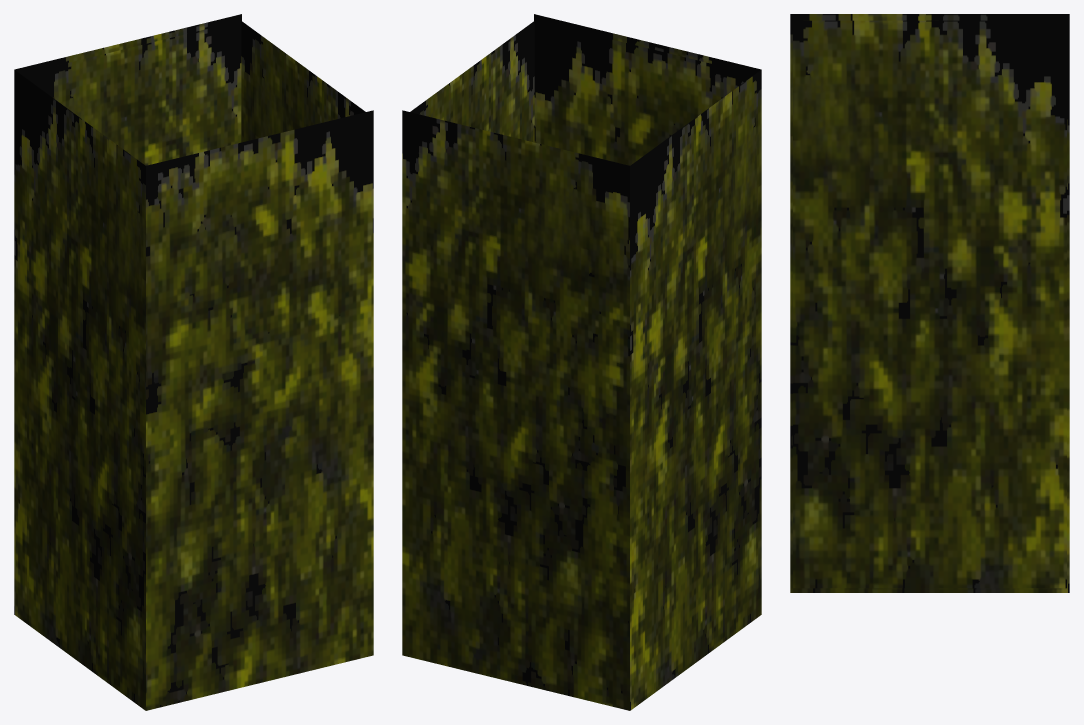
File: Bushwall_Single.fbx
The picture shows the model from 3 angles, left to right: view 1: azimuth 30°, elevation 25°; view 2: azimuth 150°, elevation 25°; view 3: azimuth 270°, elevation 25°; orthographic projection. The views are drawn at different scales.
Parts seen in each view (by area): view 1: Bushwall.001; view 2: Bushwall.001; view 3: Bushwall.001.
Boxes of the visible parts, x1,y1,x2,y2 form: Bushwall.001: (14,14,373,710); Bushwall.001: (402,14,761,710); Bushwall.001: (790,14,1069,592).
Size of the model in its own units: 142 by 324 by 142.
1 material, 1 textured.
